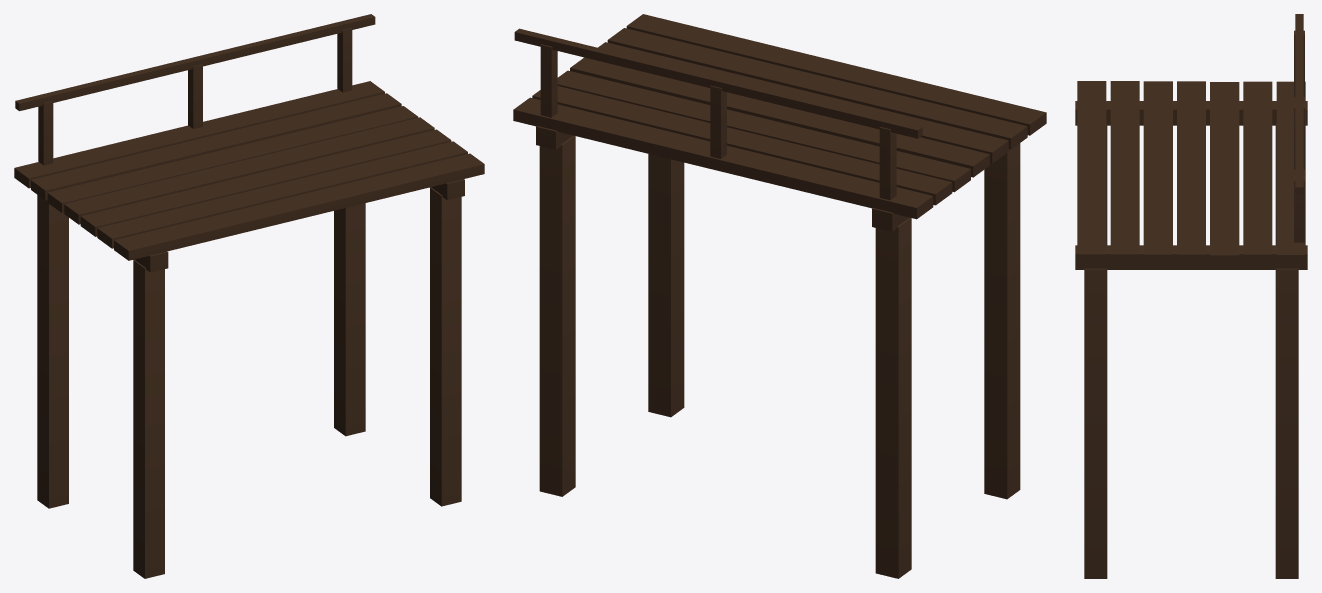
The model's file is town_jetty.glb.
3 views of the same model, side by side, from view 1: azimuth 30°, elevation 25°; view 2: azimuth 150°, elevation 25°; view 3: azimuth 270°, elevation 25° (orthographic). The views are drawn at different scales.
Visible parts, largest first — view 1: prop; view 2: prop; view 3: prop.
Boxes of the visible parts, box(x1,y1,x2,y2) form: prop: box(14, 14, 484, 578); prop: box(513, 14, 1046, 578); prop: box(1075, 14, 1307, 578).
Bounding box in the file's own units: 6 × 6.48 × 3.4.
